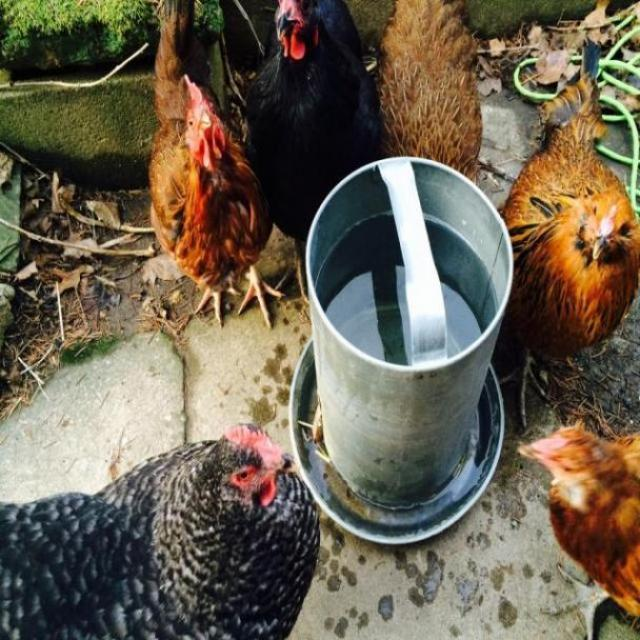Chicken: (0, 422, 320, 639), (502, 32, 640, 433), (143, 0, 290, 332), (241, 0, 389, 307), (512, 426, 640, 639), (371, 0, 481, 191)
